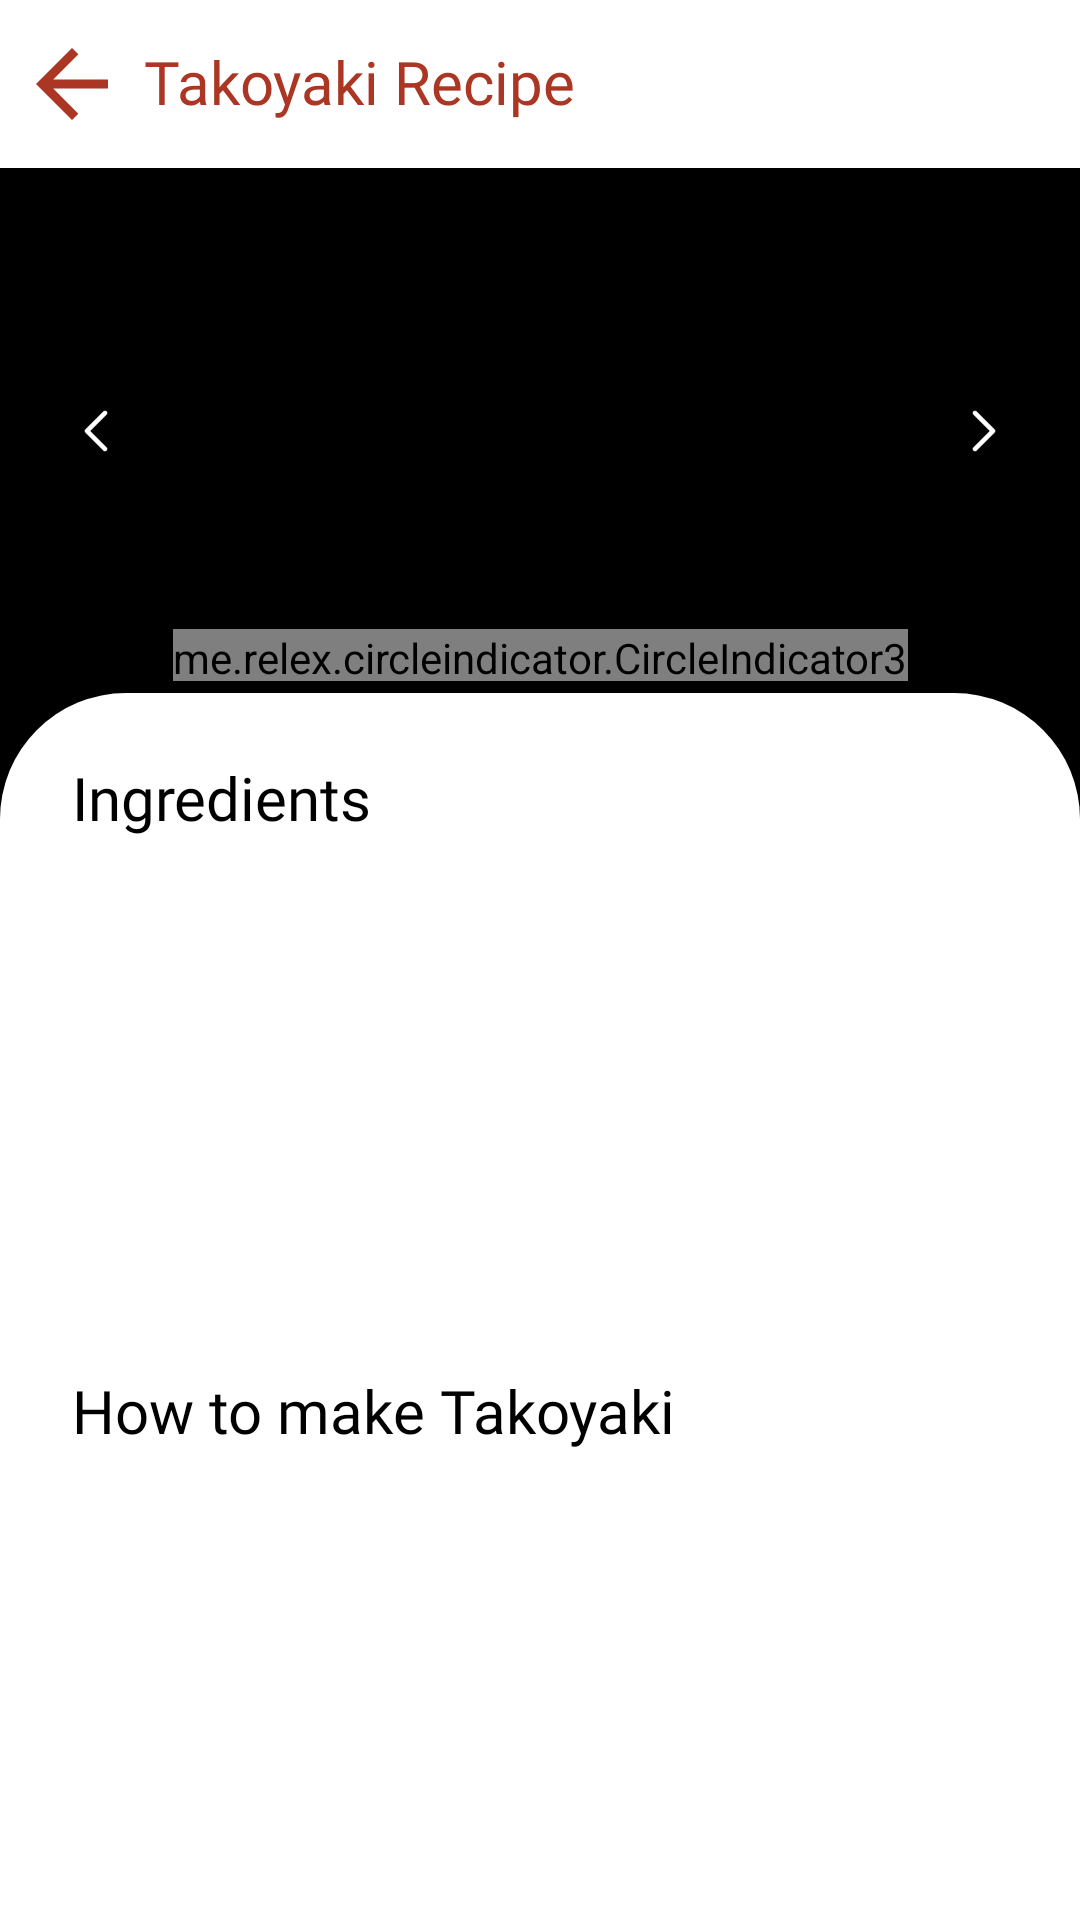

Named icons in this screenshot (1080x1920) and their bounding boxes, (x1, y1, x2, y2):
back: (36, 48, 108, 120)
left: (84, 410, 108, 452)
right: (972, 410, 996, 452)
